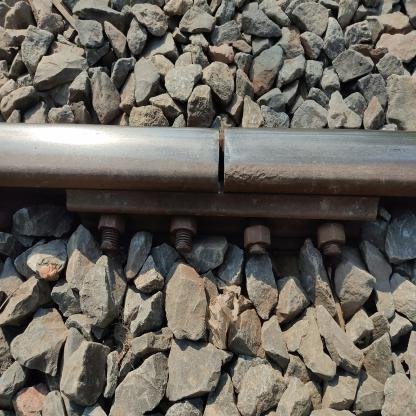Non Defective 2: (186, 112, 264, 204)
Non Defective 3: (54, 177, 402, 278)
